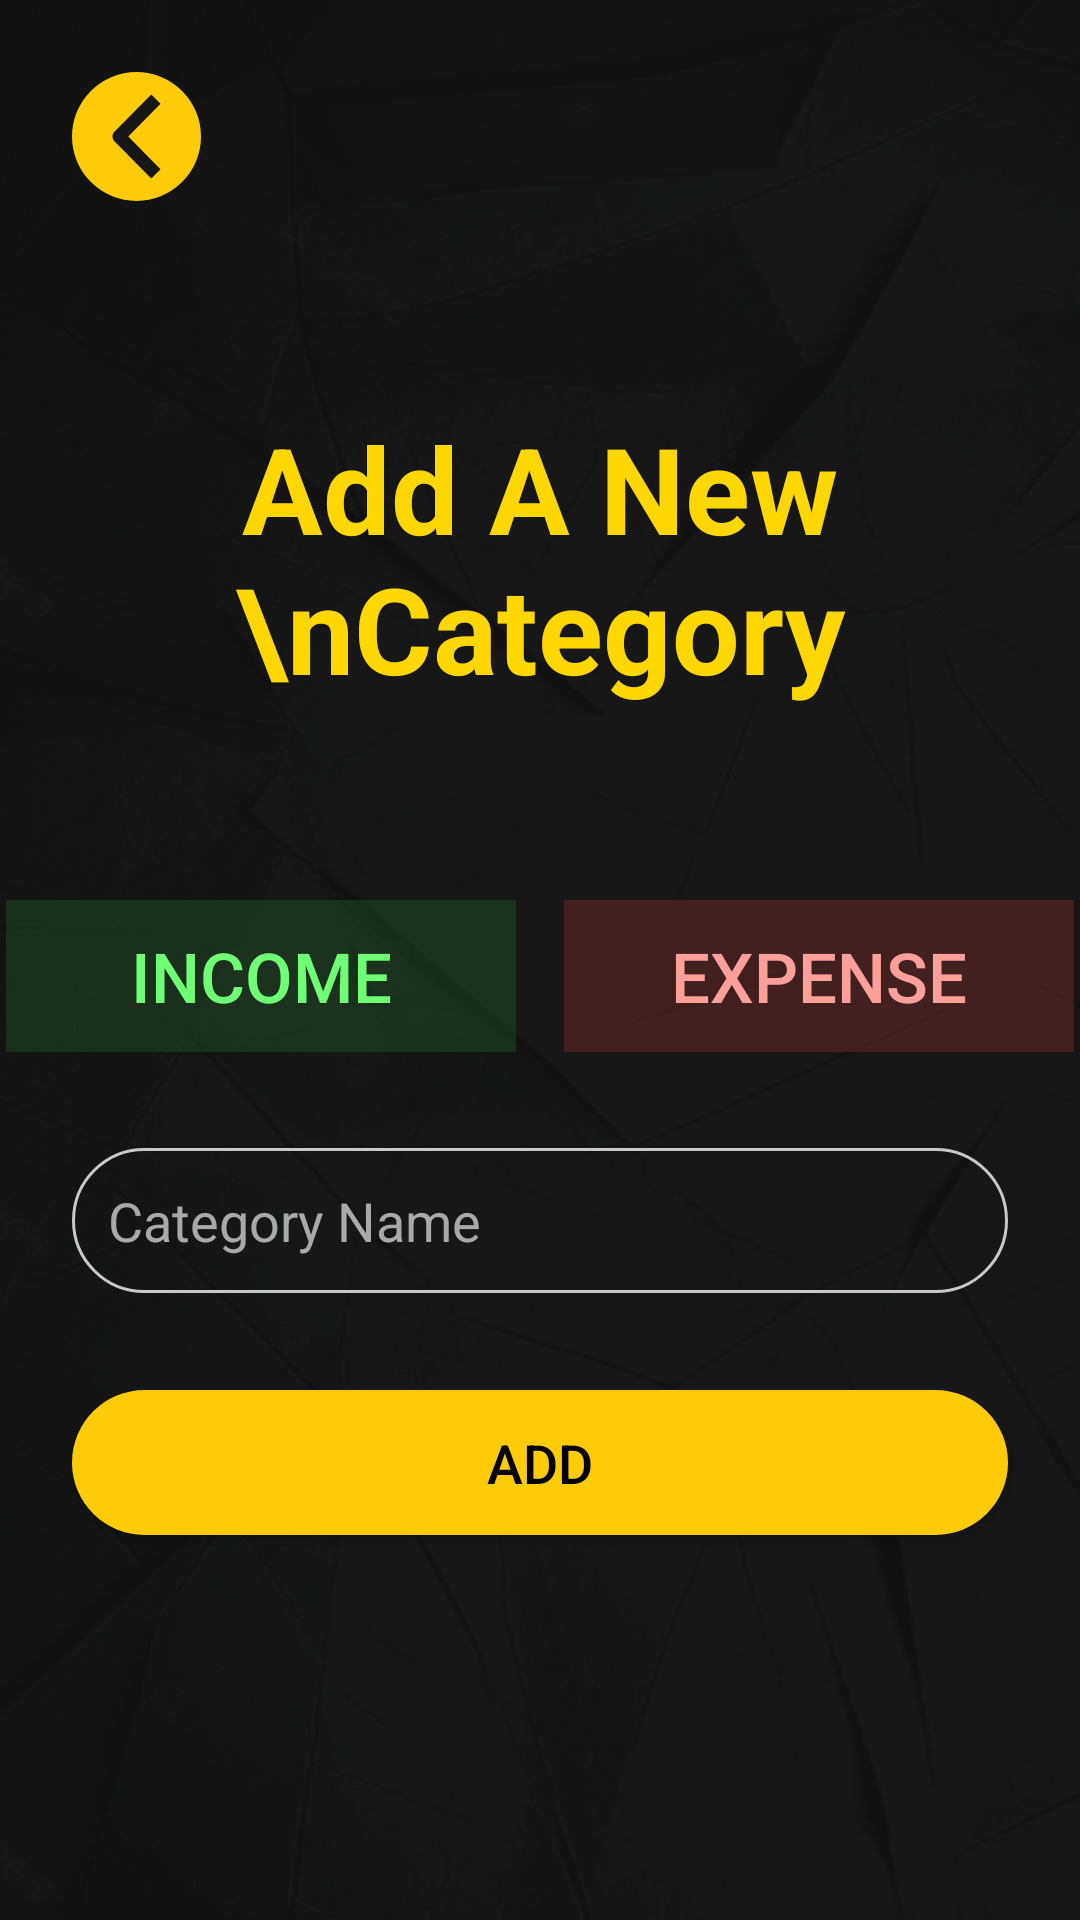

Where to tap for icons on this 1080 x 1920 app screen, as point (x, y):
back: point (136, 136)
